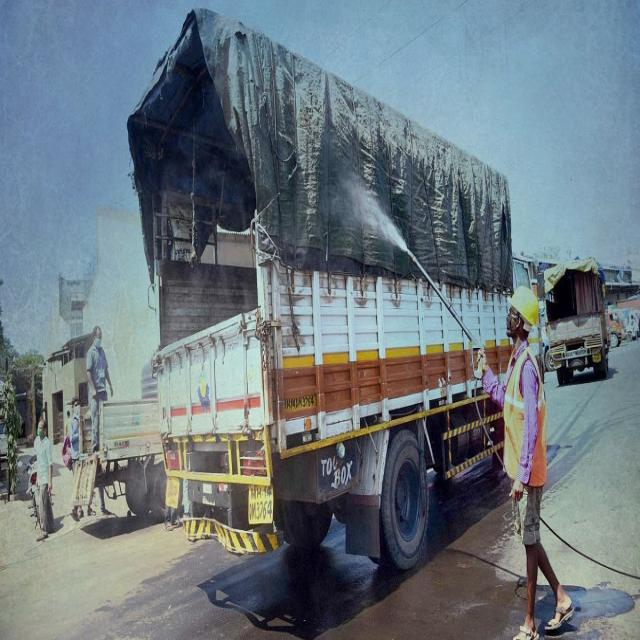truck: (128, 9, 512, 568), (541, 258, 610, 384)
